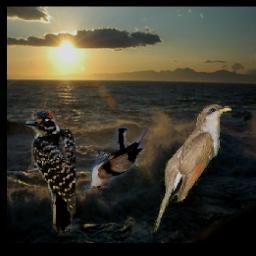Cuckoo: (153, 105, 232, 234), (82, 122, 151, 189)
Woodpecker: (26, 108, 77, 236)
